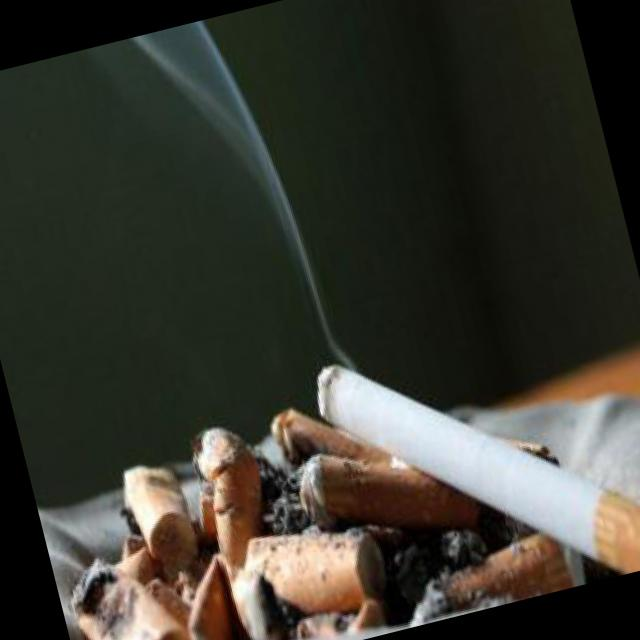smoke: (130, 4, 352, 404)
